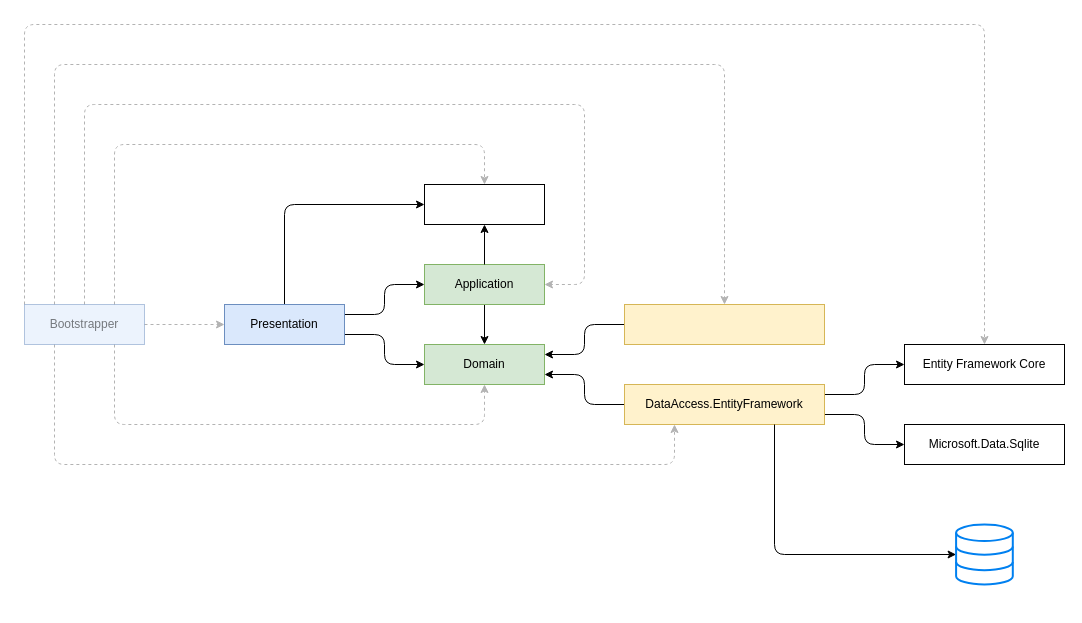
Some shapes in this 1082 by 623 pixel diagram are drawn without their labels. Each missing label, with the box of its shape:
DataAccess.InMemory: (624, 304, 824, 344)
MediatR: (424, 184, 544, 224)
sqlite.db: (955, 523, 1013, 585)
